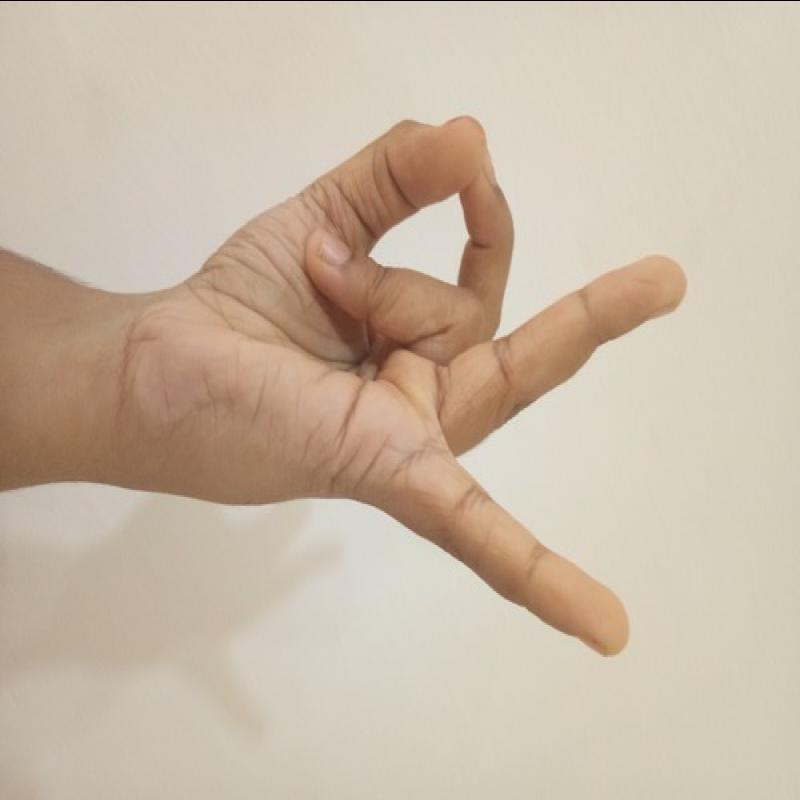Katakam: (114, 102, 698, 665)
